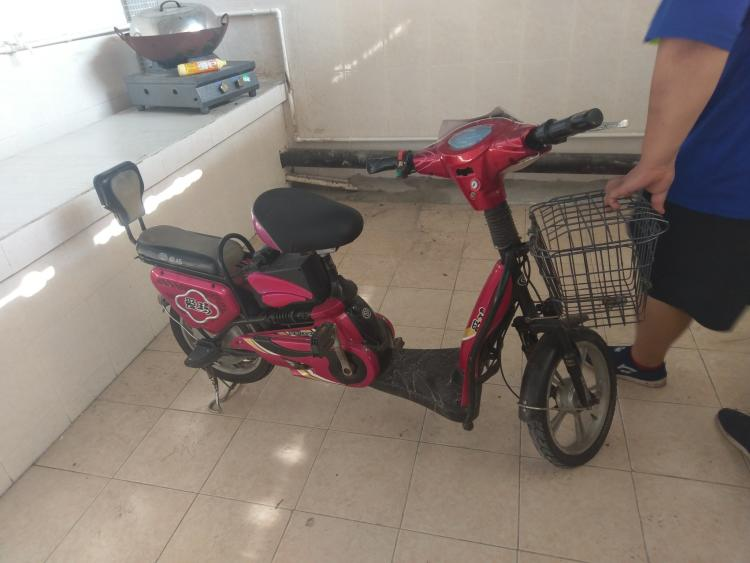电动车: (88, 93, 676, 483)
